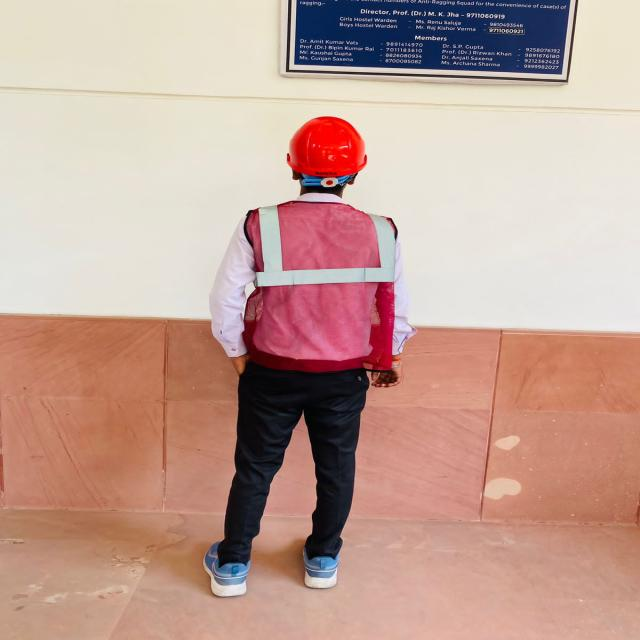safe: (216, 116, 400, 589)
